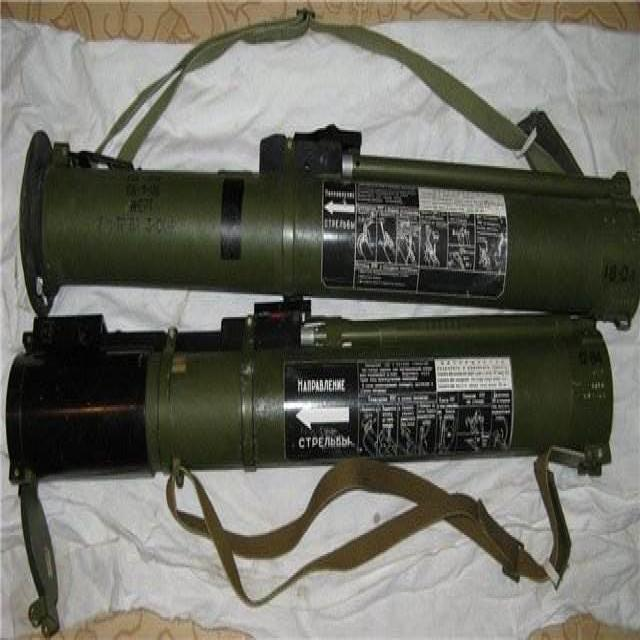bazooka: (10, 83, 640, 541)
